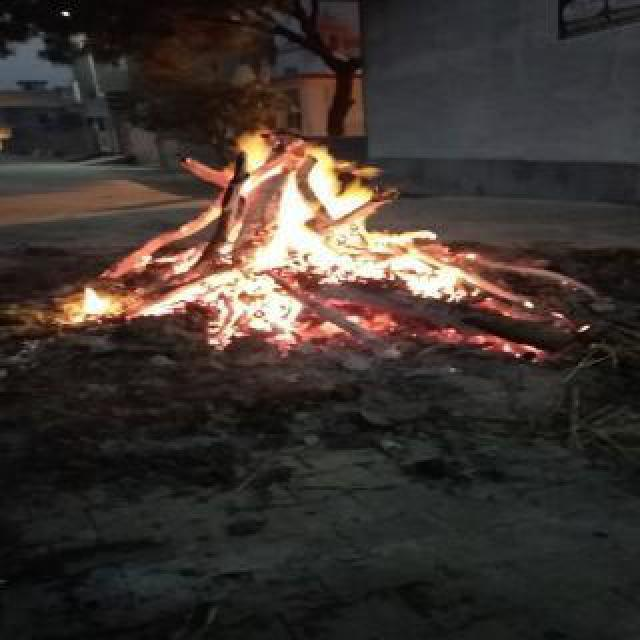Fire: (82, 104, 464, 344)
